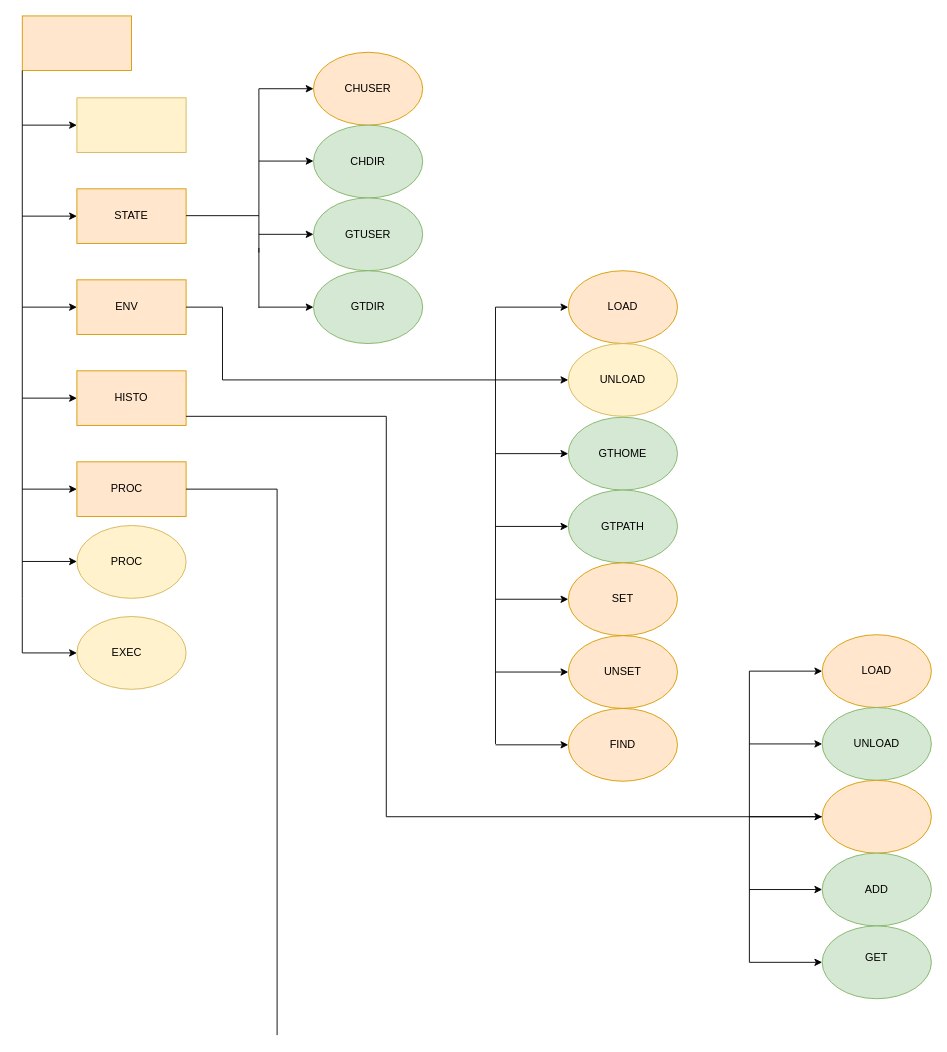
Image size: 947x1052. Some labels were removed from this diagram. The shapes that lost their labels are listed below. From the top down, each one's centre as x and y in pixels, then its label:
At (x=76, y=43): "MANAGER".
At (x=131, y=124): "PARAMS".
At (x=876, y=816): "SHOW".
